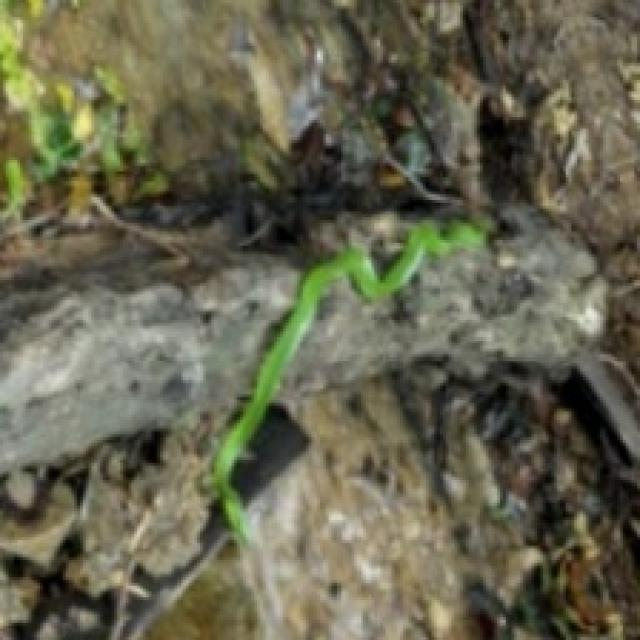red-tailed green ratsnake: (212, 224, 479, 543)
